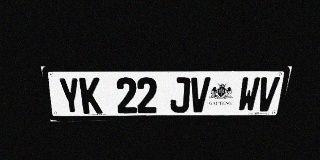2: (116, 77, 137, 113), (137, 77, 157, 113)
J: (170, 77, 191, 113)
K: (79, 77, 102, 114)
V: (255, 77, 280, 112), (189, 77, 211, 112)
W: (237, 77, 261, 112)
Y: (57, 78, 82, 114)
